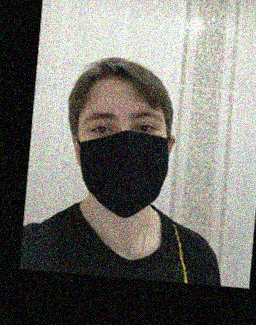with_mask: (78, 93, 169, 218)
